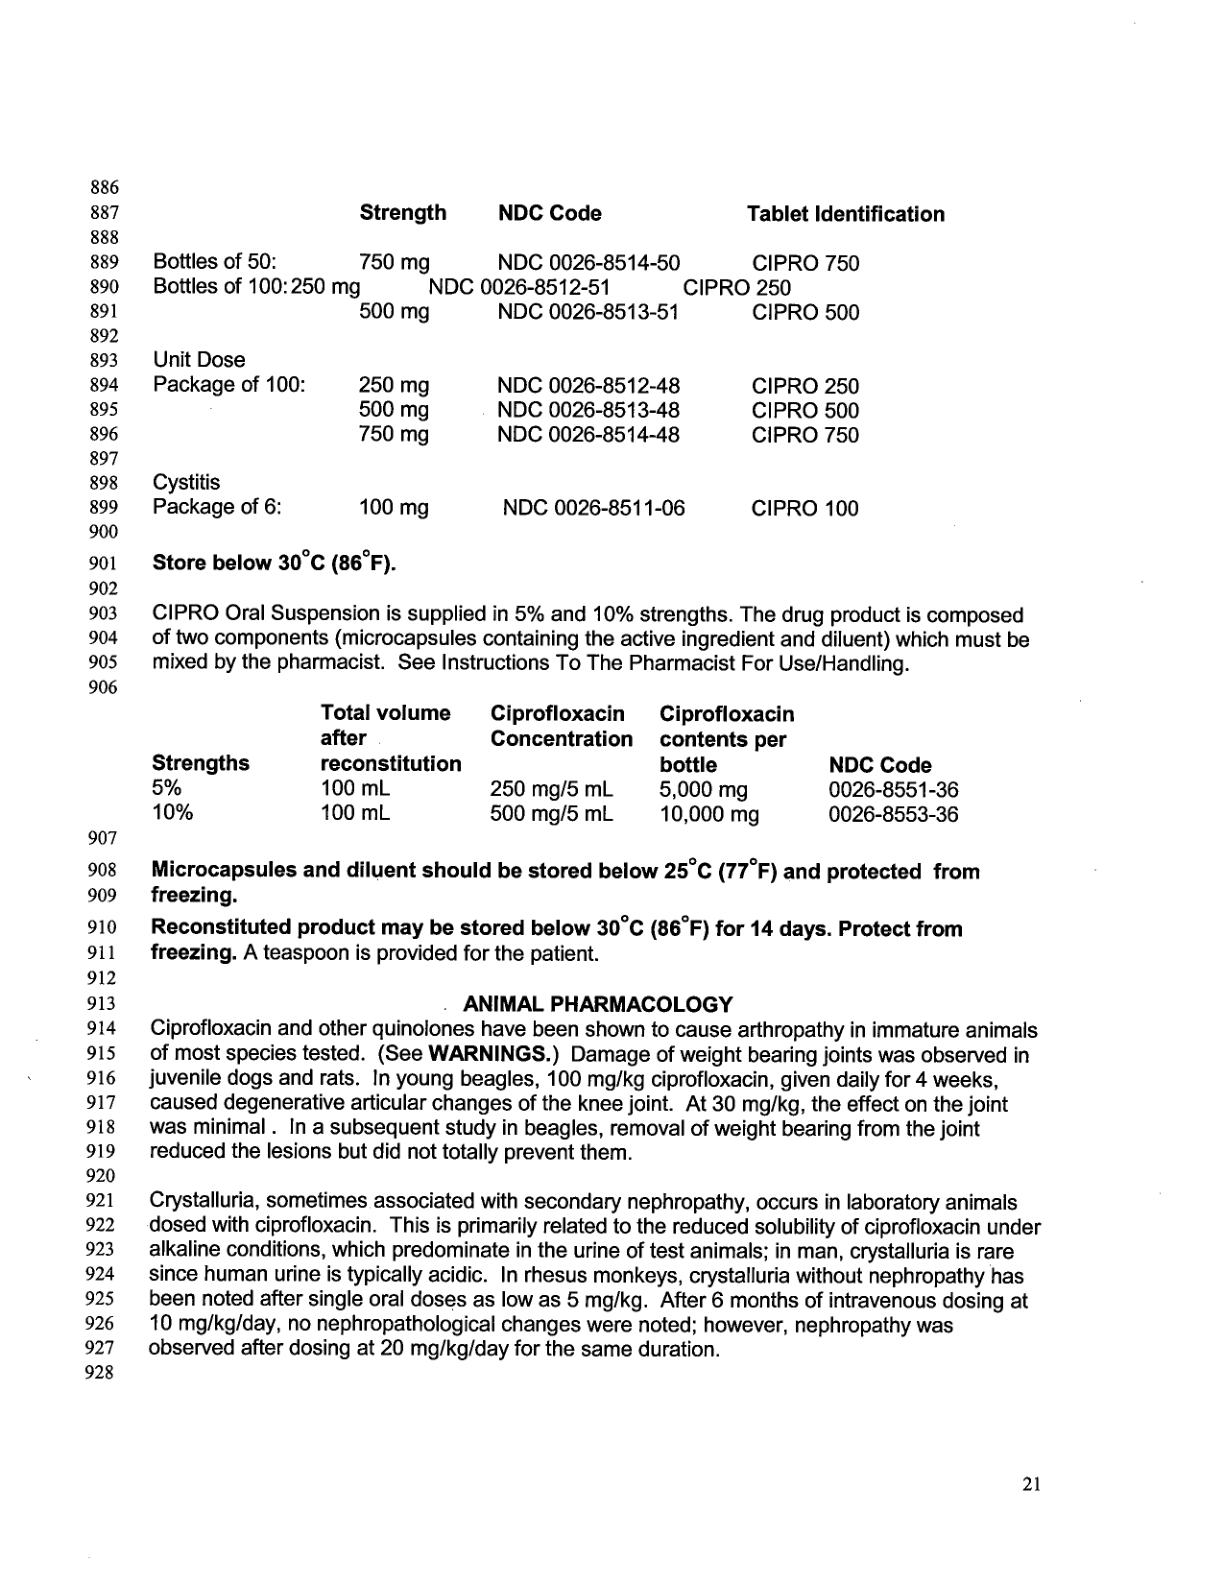nolines: (152, 201, 949, 514), (152, 696, 962, 825)
